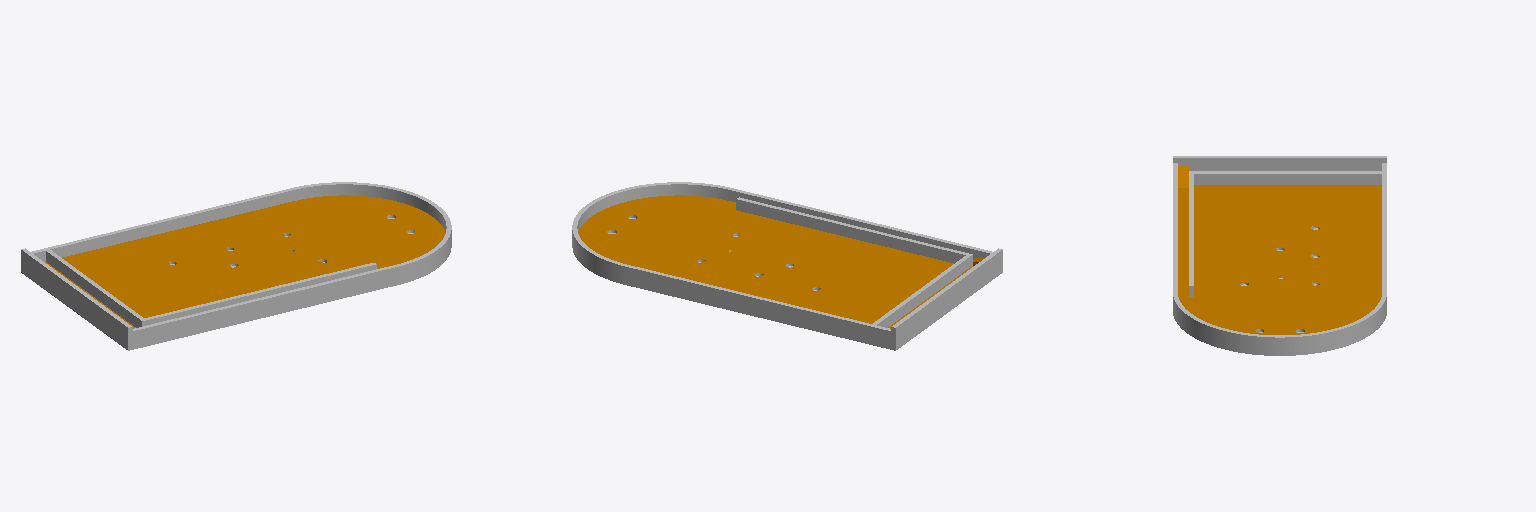
File: fortunabase6.obj
3 renders of one model, left to right at view 1: azimuth 30°, elevation 25°; view 2: azimuth 150°, elevation 25°; view 3: azimuth 270°, elevation 25°, orthographic.
Parts seen in each view (by area): view 1: Circle; view 2: Circle; view 3: Circle.
Boxes of the visible parts, x1=… form: Circle: x1=21, y1=182, x2=451, y2=350; Circle: x1=572, y1=182, x2=1002, y2=350; Circle: x1=1173, y1=156, x2=1386, y2=355.
Bounding box in the file's own units: 8.21 × 0.5 × 4.2.